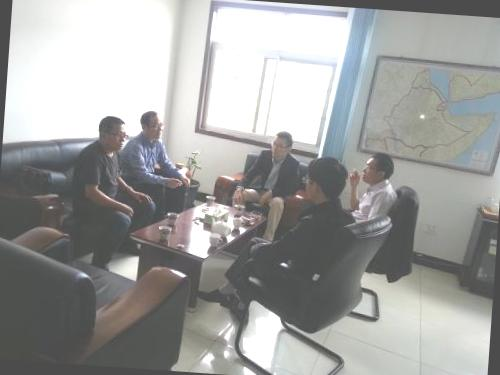no_helmet: (300, 154, 350, 209), (358, 149, 396, 186), (94, 112, 130, 149), (139, 106, 167, 141), (269, 126, 293, 158)
